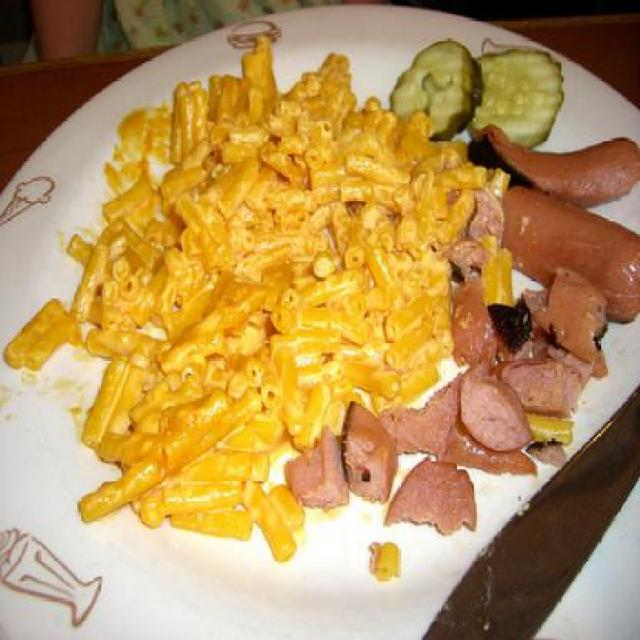hot dog: (452, 118, 639, 532), (306, 403, 482, 529)
macaroni and cheese: (6, 36, 440, 387), (58, 388, 302, 562)
